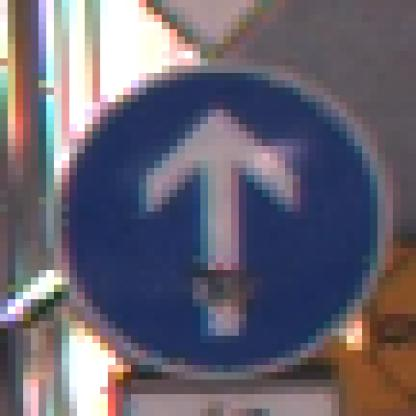AheadOnly: (47, 45, 379, 373)
